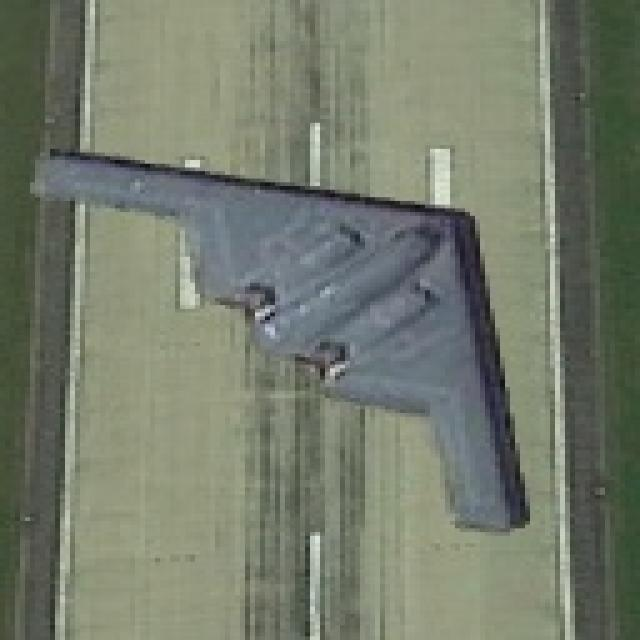B-2_TopDown: (25, 138, 535, 532)
